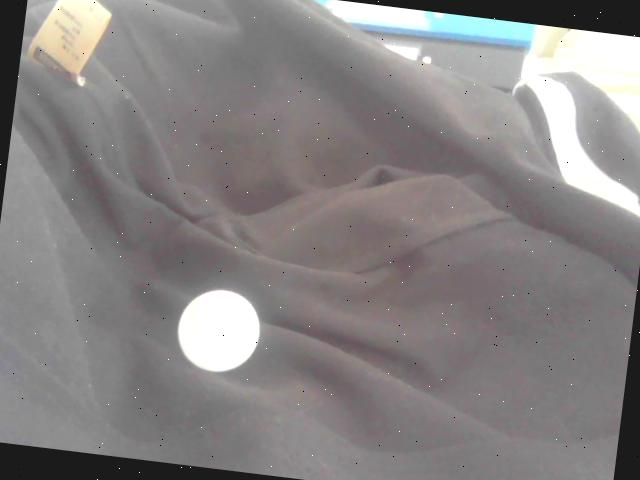ball: (172, 287, 264, 376)
